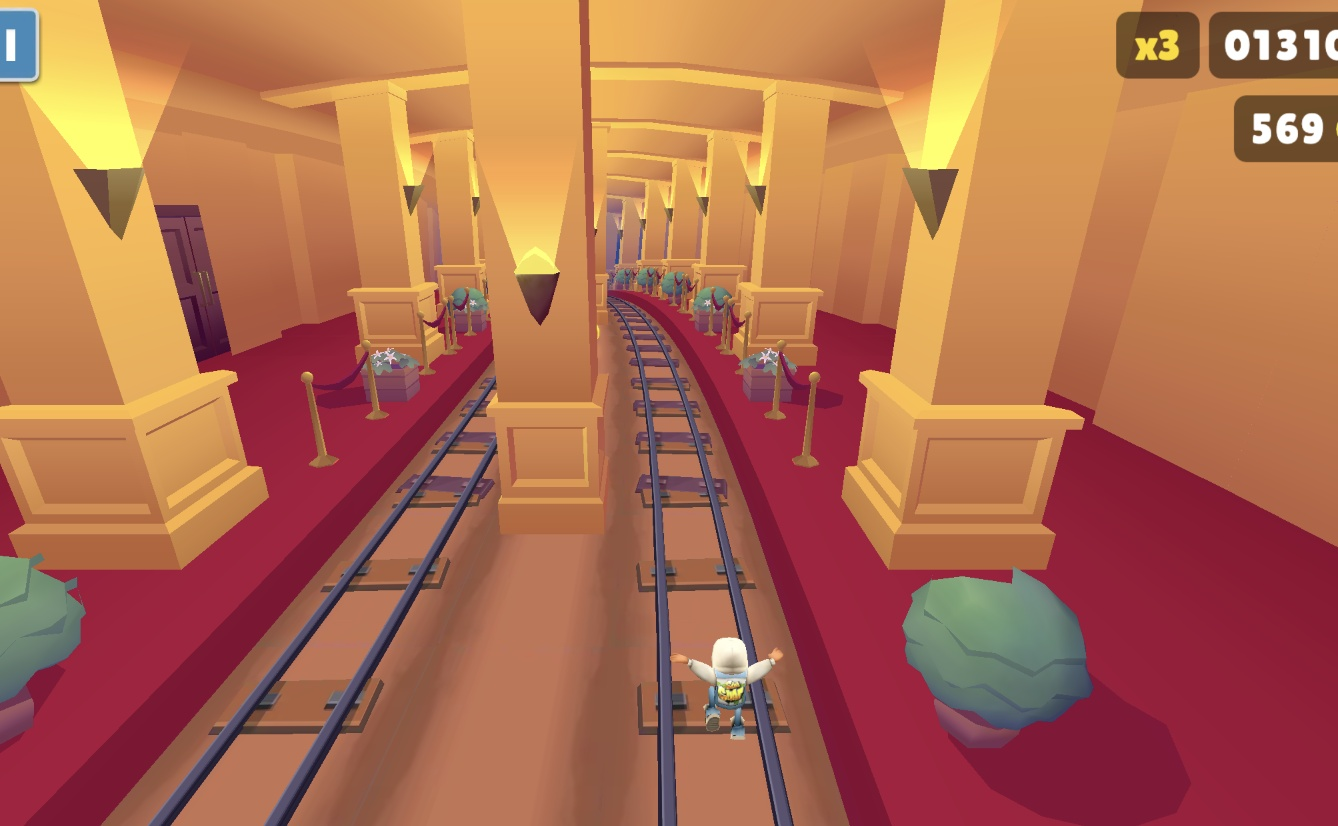pillar: (482, 0, 614, 556)
